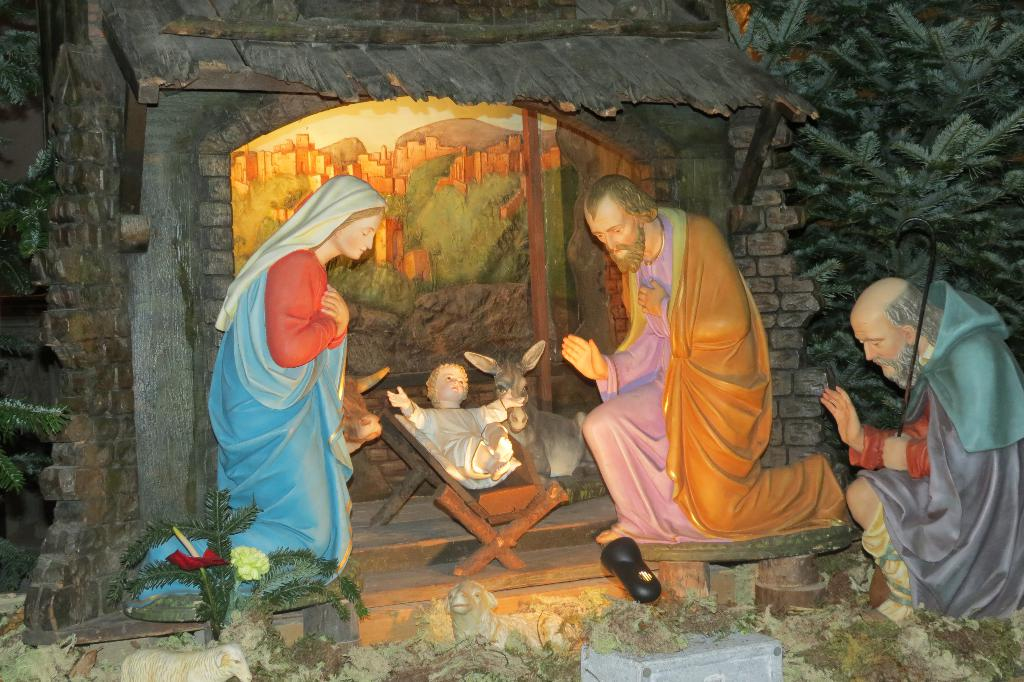Person: (560, 172, 842, 545), (822, 276, 1024, 619), (387, 361, 524, 482)
